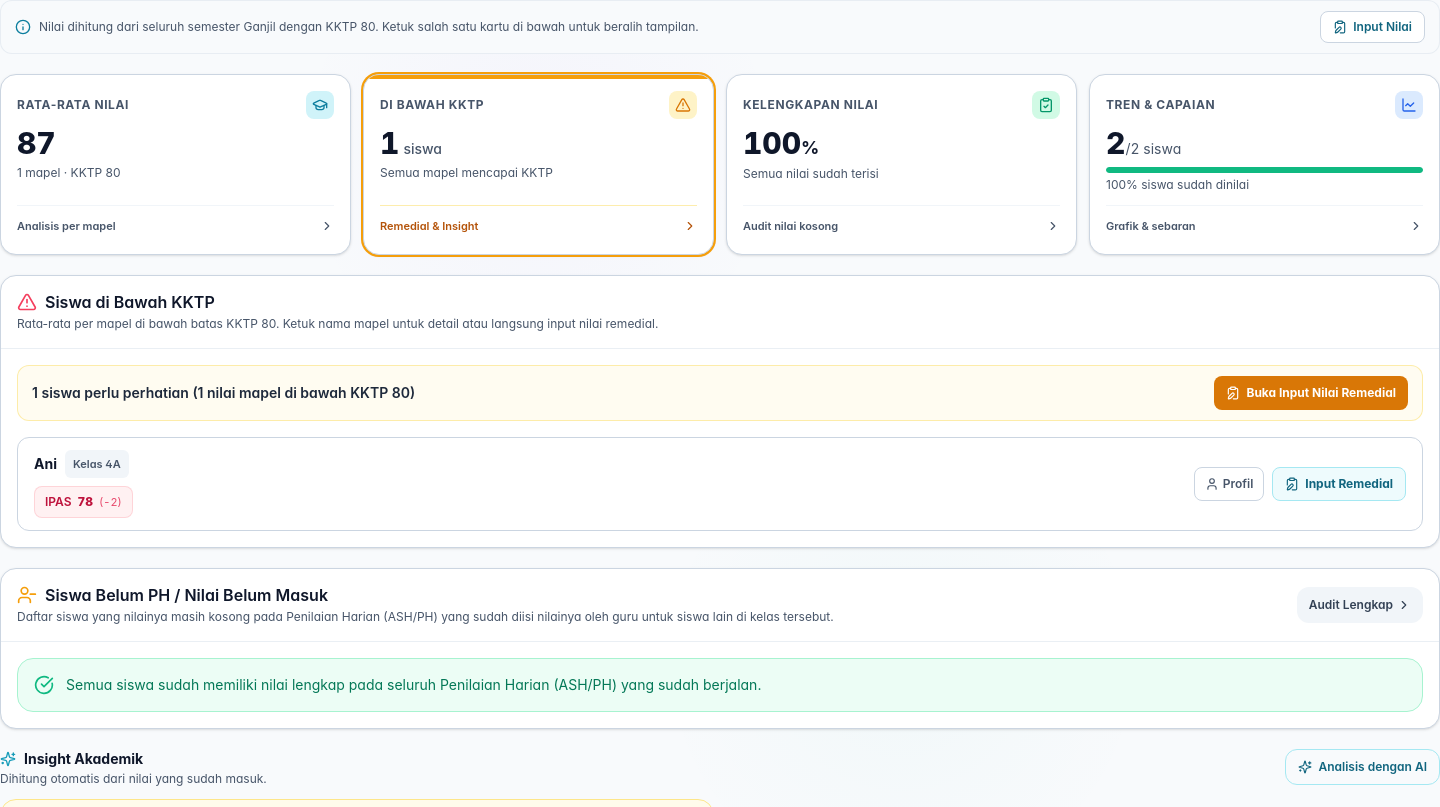
AcademicTab › switches between the 4 distinct KPI card views without duplicate tab bars
Check: the heading "Siswa di Bawah KKTP" is shown, box [17, 292, 215, 312]
Check: the button "Input Remedial" is shown, box [1272, 467, 1406, 501]
What coordinates should you click on to do the following:
click the button with aria-label "Rata-rata Nilai & Analisis Per Mata Pelajaran"
I would click on:
 (176, 164)
Its box is [0, 74, 351, 255].
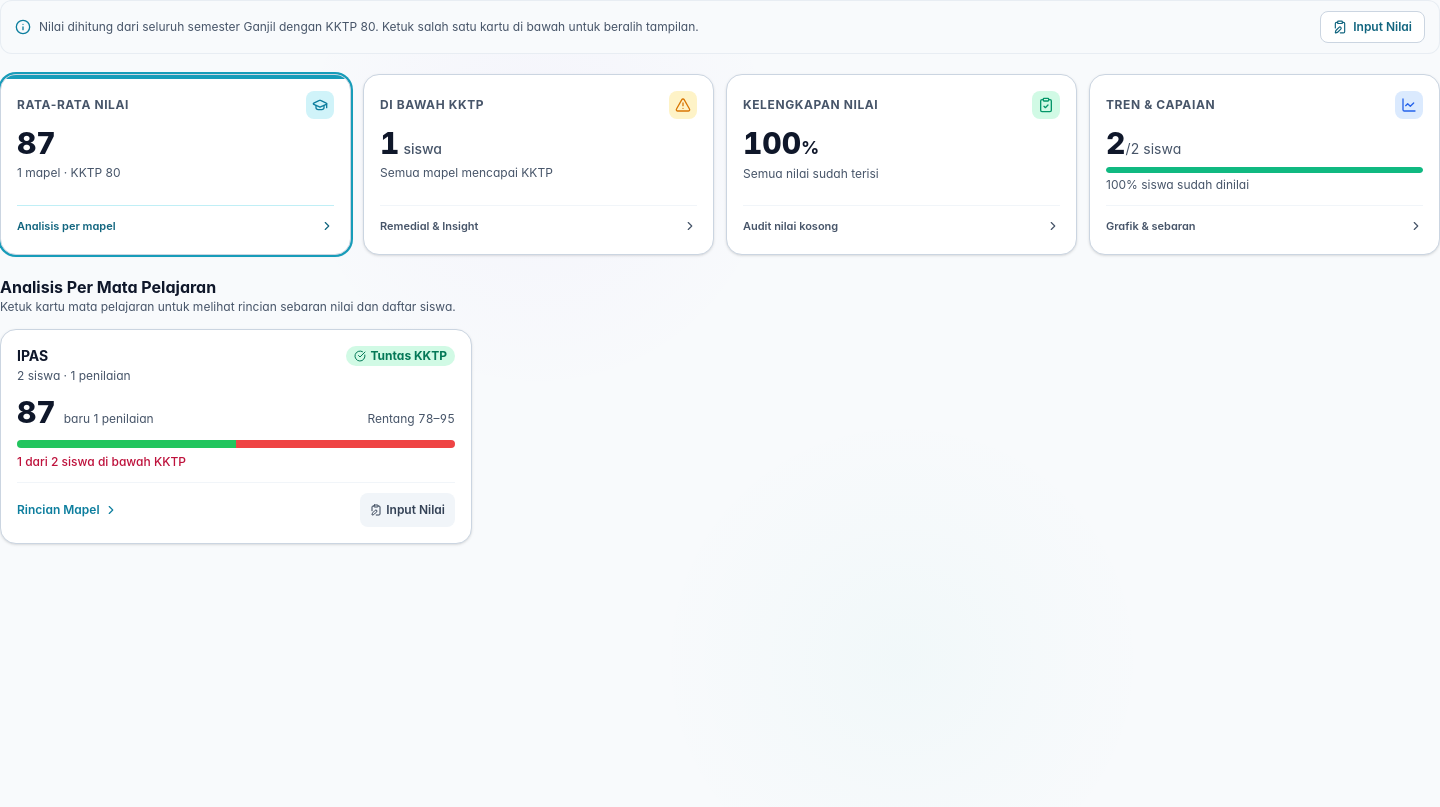
Check: the heading "Analisis Per Mata Pelajaran" is shown, box [0, 277, 216, 297]
What coordinates should you click on to do the following:
click the button with aria-label "Kelengkapan Nilai & Audit Nilai Kosong"
I would click on:
 (902, 164)
Its box is [726, 74, 1077, 255].
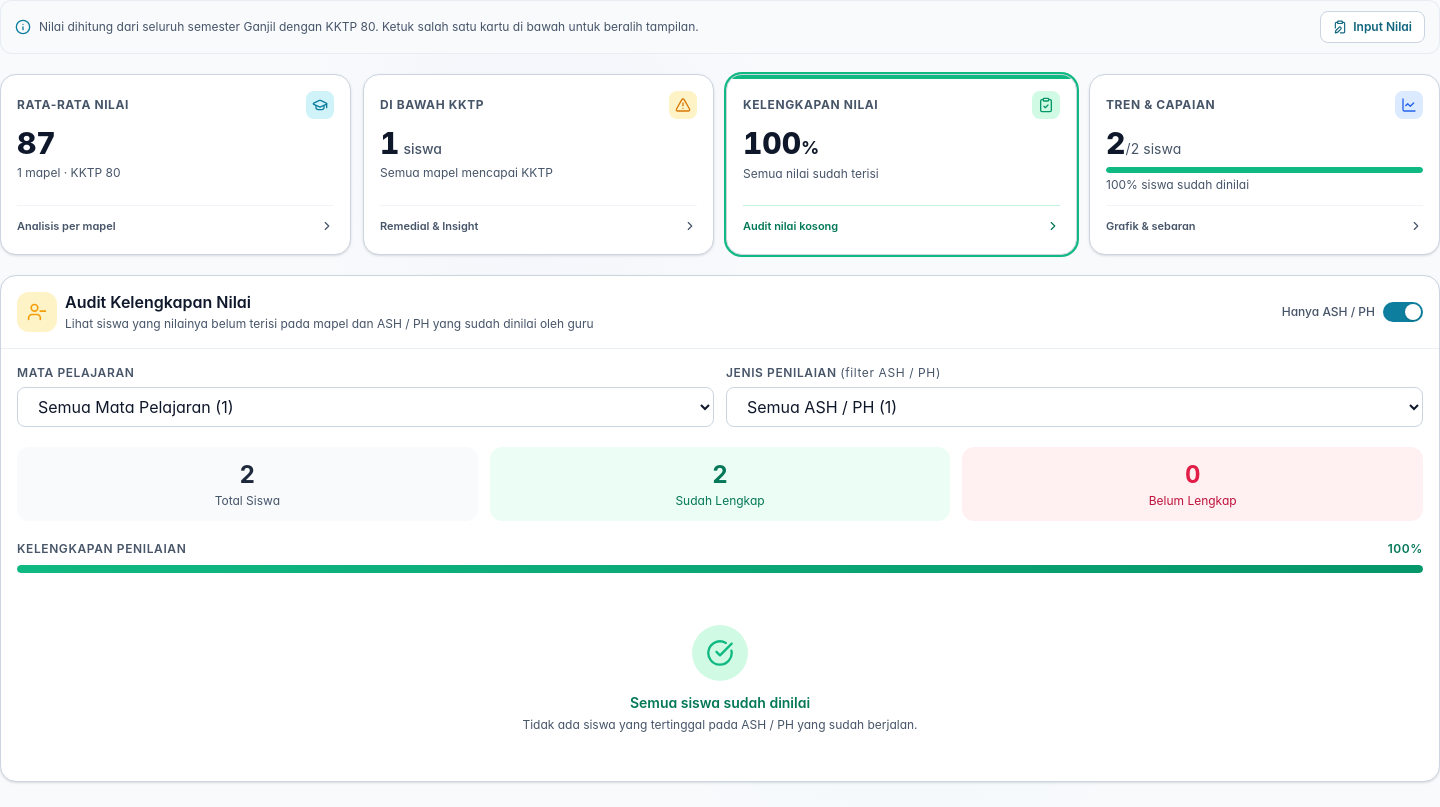
Check: the heading "Audit Kelengkapan Nilai" is shown, box [65, 292, 251, 312]
Check: the text "Hanya ASH / PH" is shown, box [1282, 304, 1375, 320]
What coordinates should you click on to do the following:
click the button with aria-label "Tren Nilai & Capaian Siswa"
I would click on:
 (1264, 164)
Its box is [1089, 74, 1439, 255].
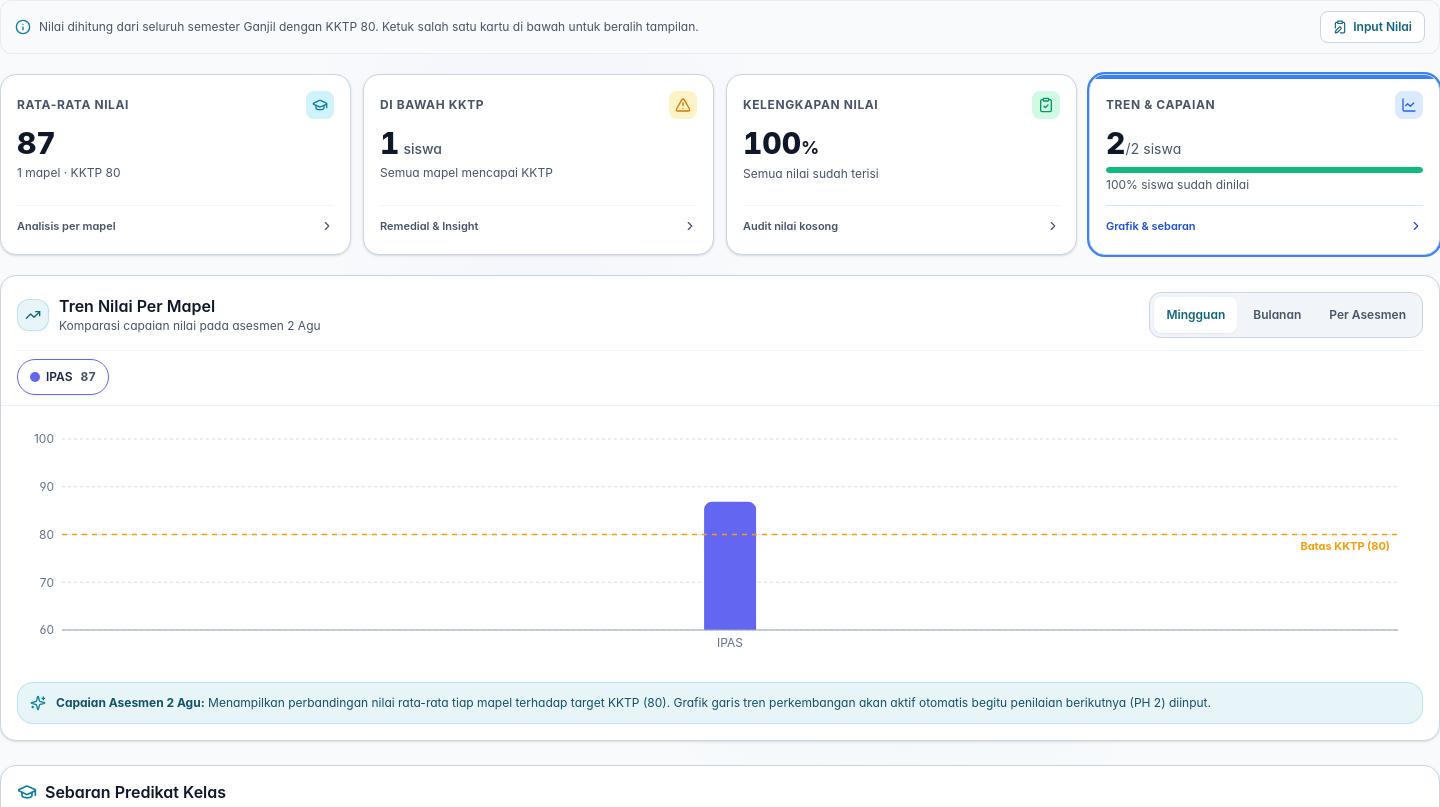
Check: the heading "Sebaran Predikat Kelas" is shown, box [17, 782, 226, 802]
